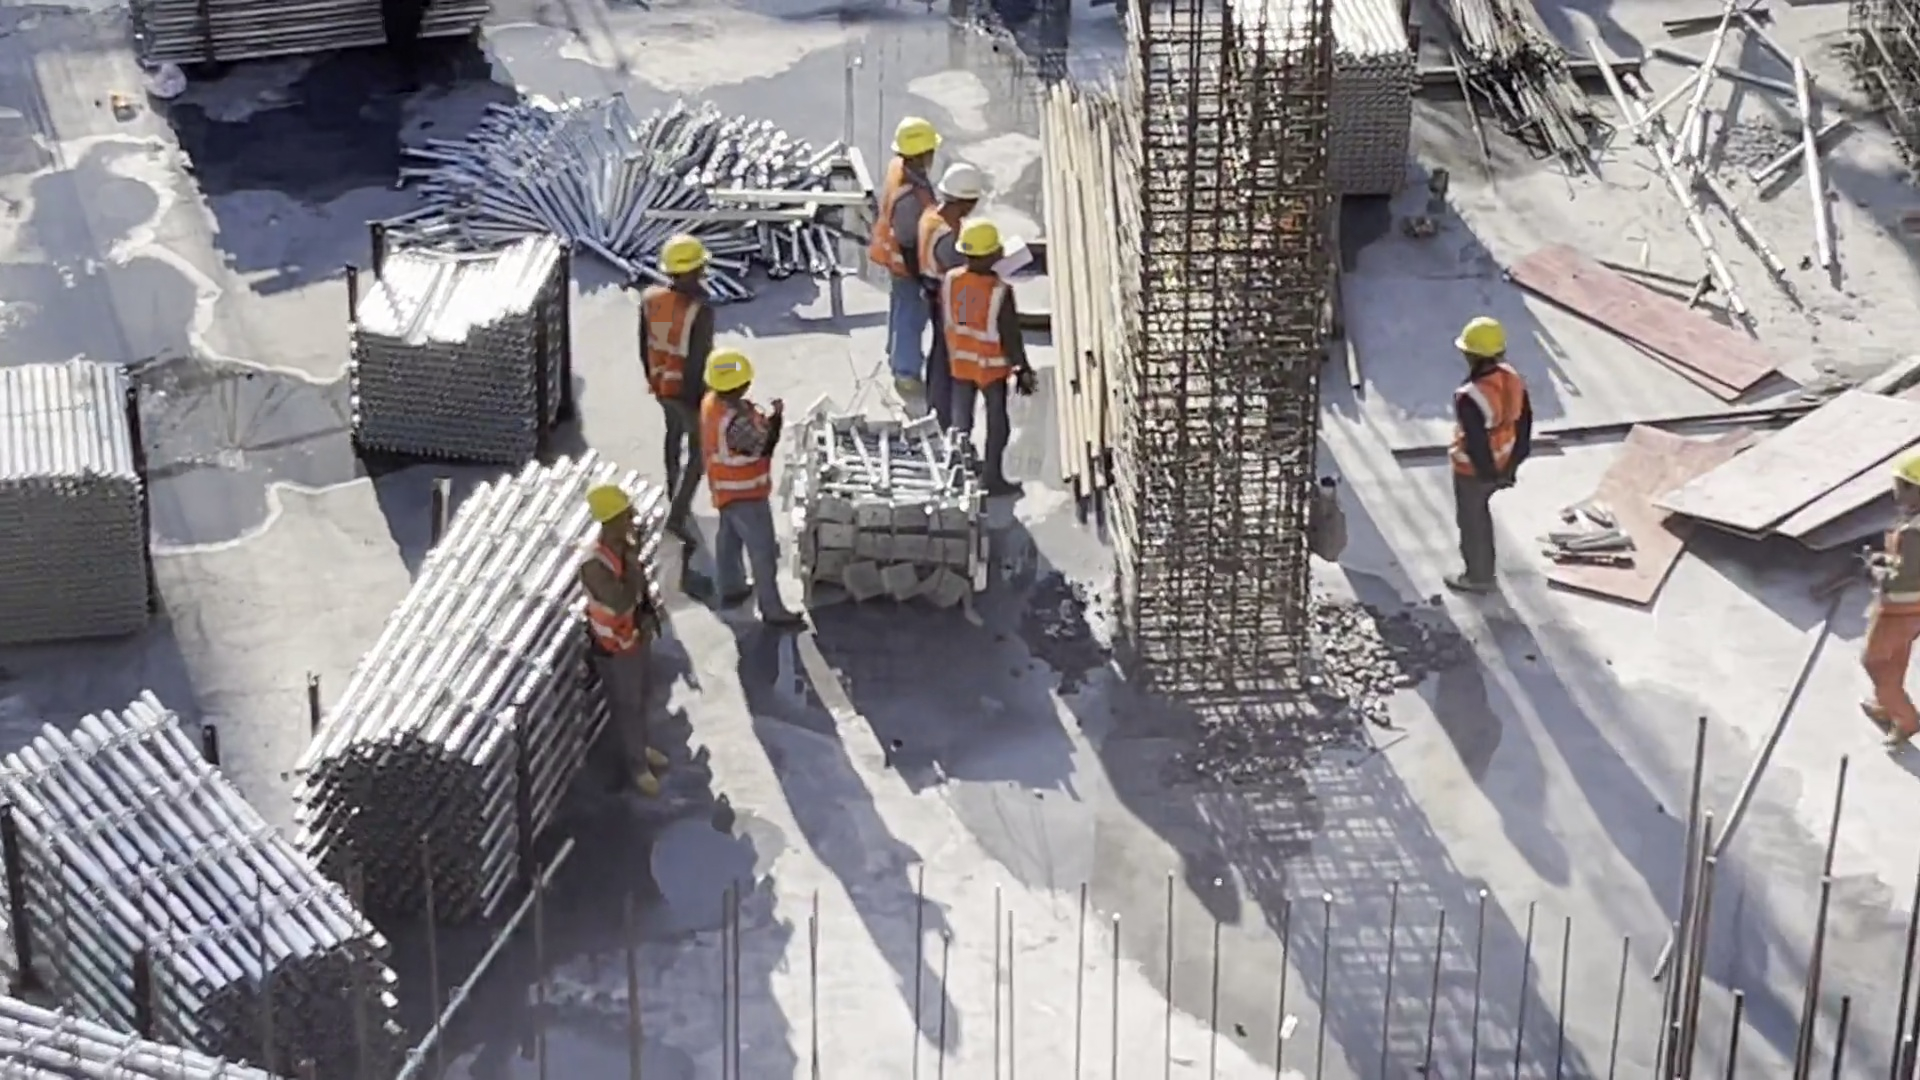helmet: (871, 121, 936, 174), (948, 151, 993, 221), (964, 221, 1011, 284), (708, 349, 756, 401), (1461, 319, 1496, 384), (654, 232, 696, 281), (1888, 444, 1919, 496), (591, 484, 633, 521)
person: (698, 363, 786, 621), (1439, 323, 1524, 573), (1866, 451, 1919, 746), (943, 211, 1006, 446), (649, 231, 706, 456), (593, 486, 648, 723), (891, 100, 934, 318), (926, 148, 979, 255)
vest: (1466, 366, 1549, 464), (696, 391, 763, 501), (946, 262, 1011, 366), (601, 532, 644, 651), (1874, 543, 1920, 621), (658, 271, 691, 369), (874, 177, 904, 254), (914, 219, 938, 276)
